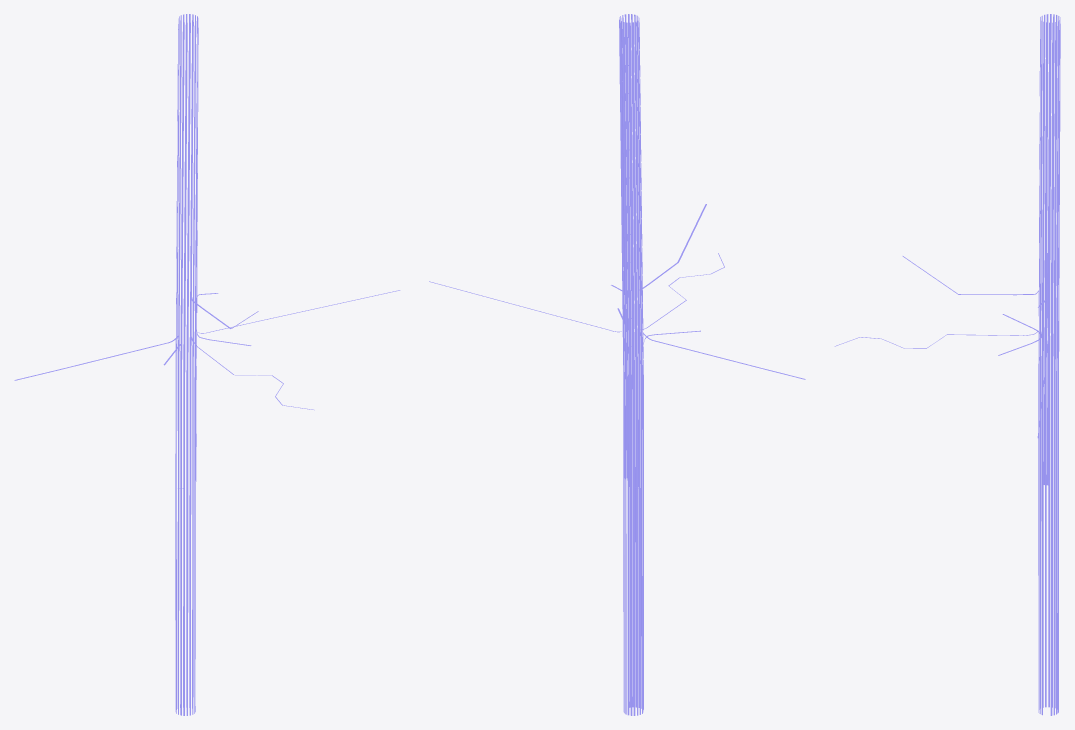
3 renders of one model, left to right at view 1: azimuth 30°, elevation 25°; view 2: azimuth 150°, elevation 25°; view 3: azimuth 270°, elevation 25°, orthographic.
Parts seen in each view (by area): view 1: polySurface707; view 2: polySurface707; view 3: polySurface707.
Part boxes in pixels (left/top/right/bottom): polySurface707: left=14, top=14, right=400, bottom=715; polySurface707: left=429, top=14, right=805, bottom=715; polySurface707: left=834, top=14, right=1060, bottom=715.
Size of the model in its own units: 20674 by 35924 by 10602.
